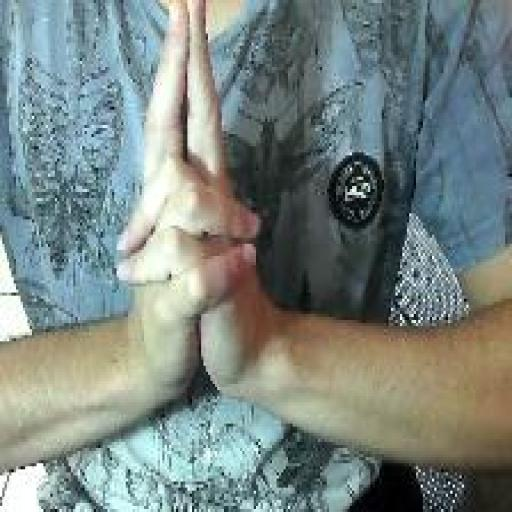Tora -tiger-: (111, 0, 264, 408)
